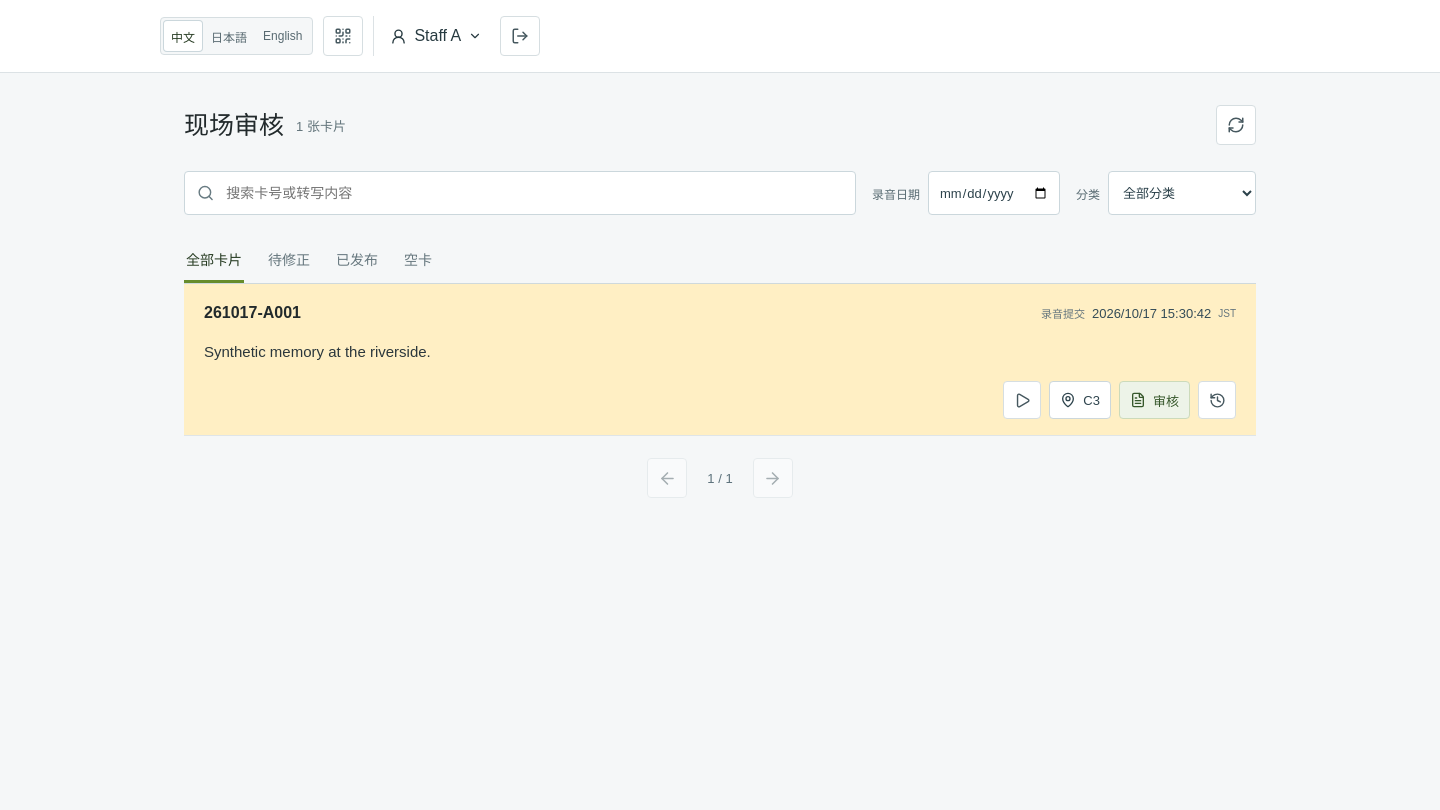
Test: staff website › confirms a selected source language and requeues AI without approving it
Click the button with aria-label "审核 261017-A001" at (1154, 400), box [1119,381,1190,419]
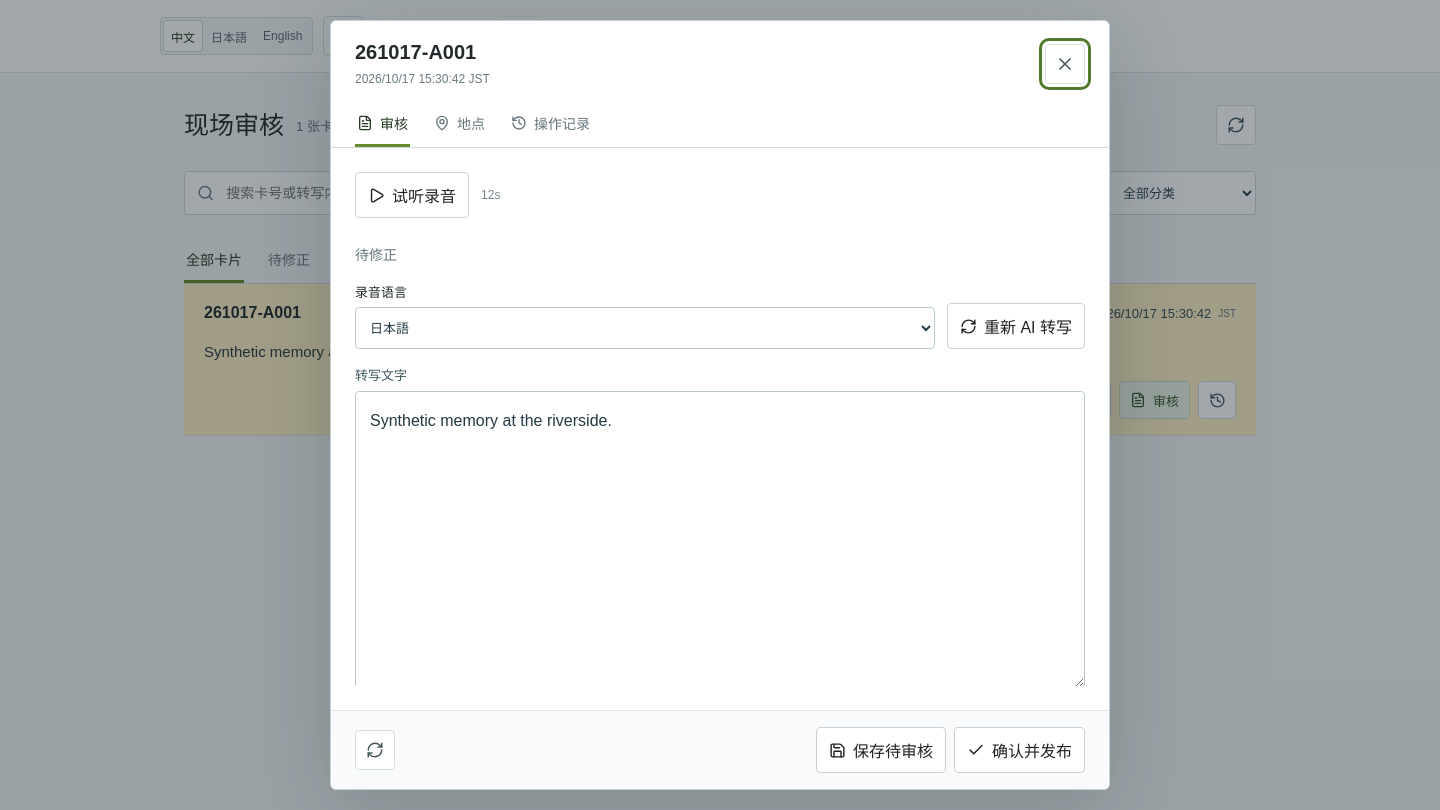
Now the dropdown labelled "录音语言" shows "日本語"
Select "한국어" in the dropdown labelled "录音语言" at (645, 328), box [355,307,935,349]
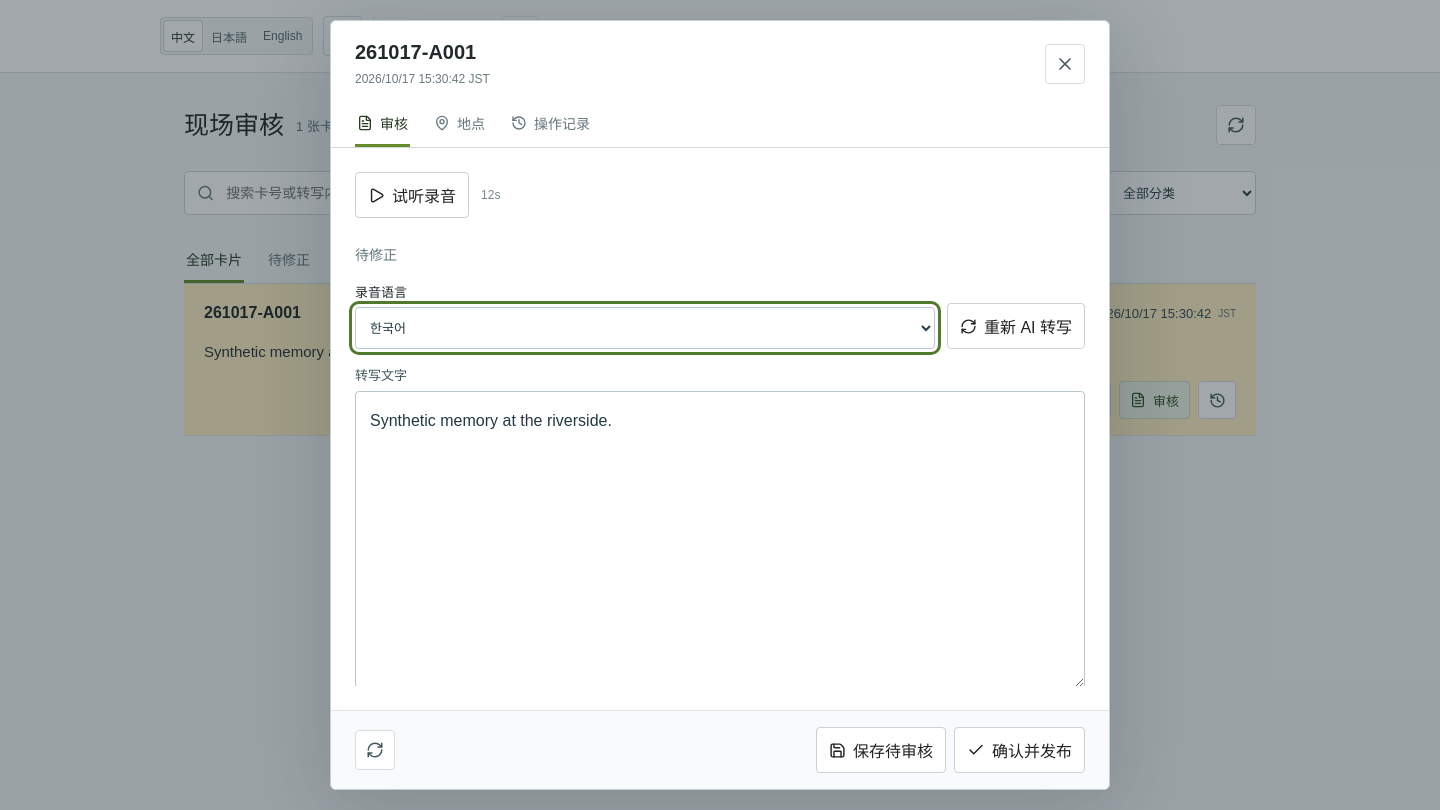
Click the button "重新 AI 转写" at (1016, 326), box [947,303,1085,349]
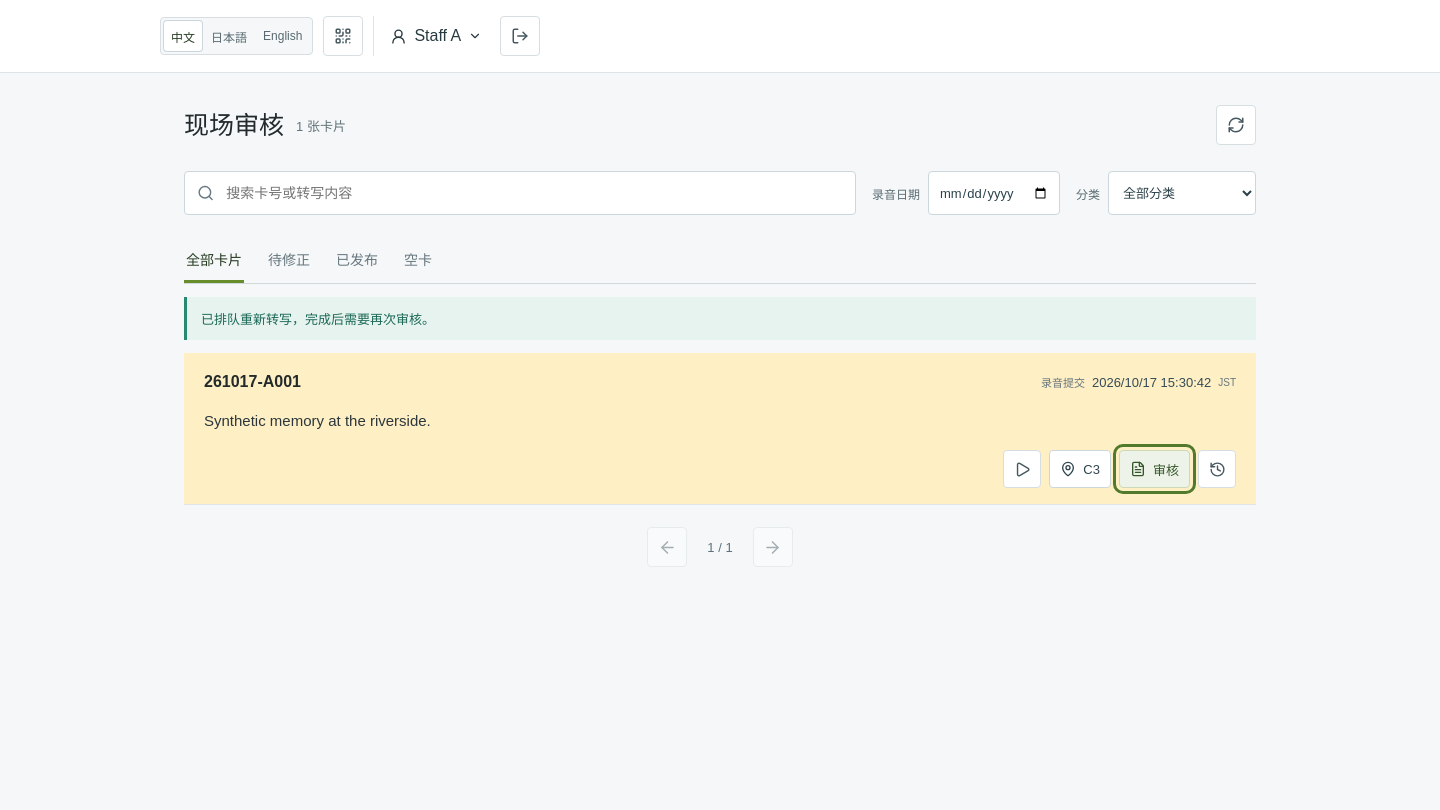
Now the text "已排队重新转写，完成后需要再次审核。" is shown, box [184,297,1256,340]
